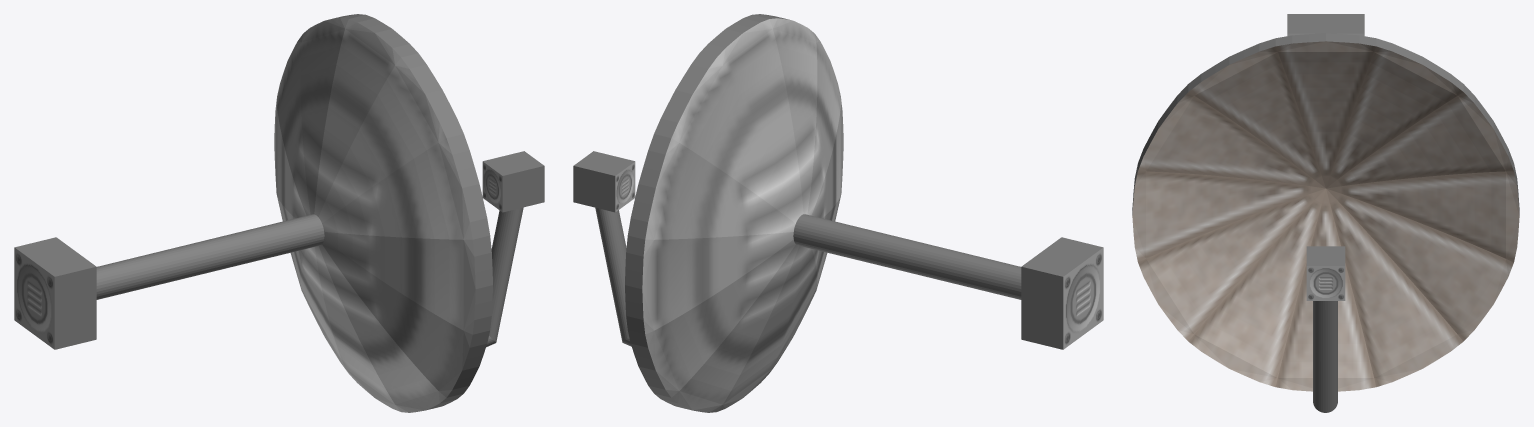
File: search3.obj
3 views of the same model, side by side, from view 1: azimuth 30°, elevation 25°; view 2: azimuth 150°, elevation 25°; view 3: azimuth 270°, elevation 25° (orthographic). The views are drawn at different scales.
Parts seen in each view (by area): view 1: ColobotMesh_1.003_ColobotMesh_.003, ColobotMesh_1_ColobotMesh_, ColobotMesh_1.001_ColobotMesh_.001, ColobotMesh_1.002_ColobotMesh_.002, ColobotMesh_1.004_ColobotMesh_.004; view 2: ColobotMesh_1.003_ColobotMesh_.003, ColobotMesh_1_ColobotMesh_, ColobotMesh_1.001_ColobotMesh_.001, ColobotMesh_1.002_ColobotMesh_.002, ColobotMesh_1.004_ColobotMesh_.004; view 3: ColobotMesh_1.003_ColobotMesh_.003, ColobotMesh_1.004_ColobotMesh_.004, ColobotMesh_1.002_ColobotMesh_.002, ColobotMesh_1_ColobotMesh_.
Part boxes in pixels (x1,y1,x2,y2): ColobotMesh_1.003_ColobotMesh_.003: (274, 14, 492, 412); ColobotMesh_1_ColobotMesh_: (14, 237, 96, 349); ColobotMesh_1.001_ColobotMesh_.001: (96, 214, 324, 299); ColobotMesh_1.002_ColobotMesh_.002: (482, 151, 544, 212); ColobotMesh_1.004_ColobotMesh_.004: (486, 207, 523, 347); ColobotMesh_1.003_ColobotMesh_.003: (625, 14, 843, 412); ColobotMesh_1_ColobotMesh_: (1021, 237, 1103, 349); ColobotMesh_1.001_ColobotMesh_.001: (793, 214, 1021, 299); ColobotMesh_1.002_ColobotMesh_.002: (573, 151, 635, 212); ColobotMesh_1.004_ColobotMesh_.004: (595, 207, 631, 346); ColobotMesh_1.003_ColobotMesh_.003: (1132, 33, 1519, 391); ColobotMesh_1.004_ColobotMesh_.004: (1313, 301, 1337, 412); ColobotMesh_1.002_ColobotMesh_.002: (1306, 246, 1345, 300); ColobotMesh_1_ColobotMesh_: (1287, 14, 1364, 35).
Size of the model in its own units: 10.74 by 7.5 by 7.5.
